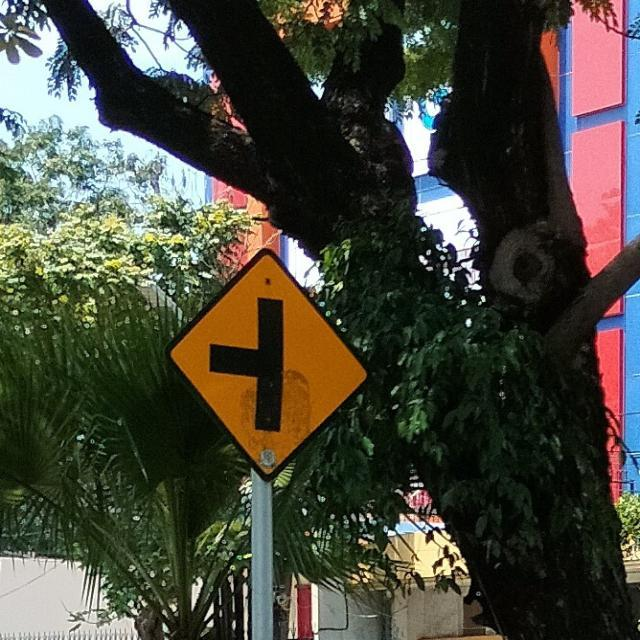Persimpangan 3 Sisi Kiri: (161, 246, 371, 482)
